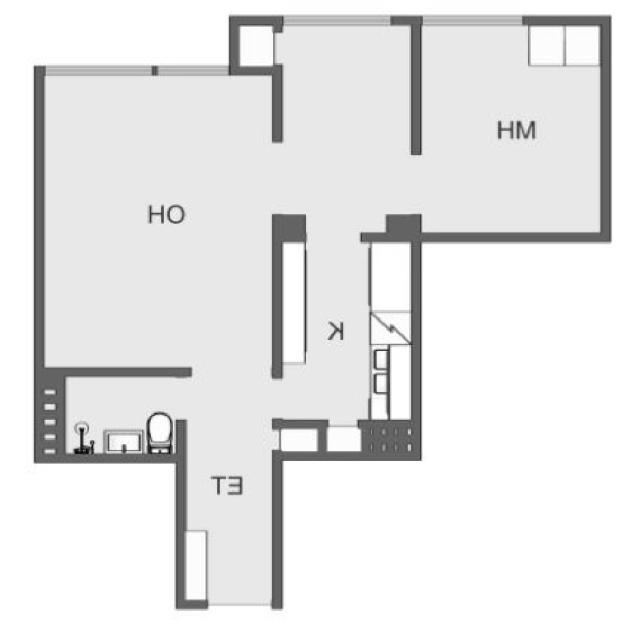window: (46, 59, 226, 78), (416, 12, 518, 24), (287, 15, 406, 25)
zone: (41, 68, 278, 366), (418, 28, 607, 239), (275, 25, 413, 228), (282, 233, 408, 450), (53, 374, 180, 450)
